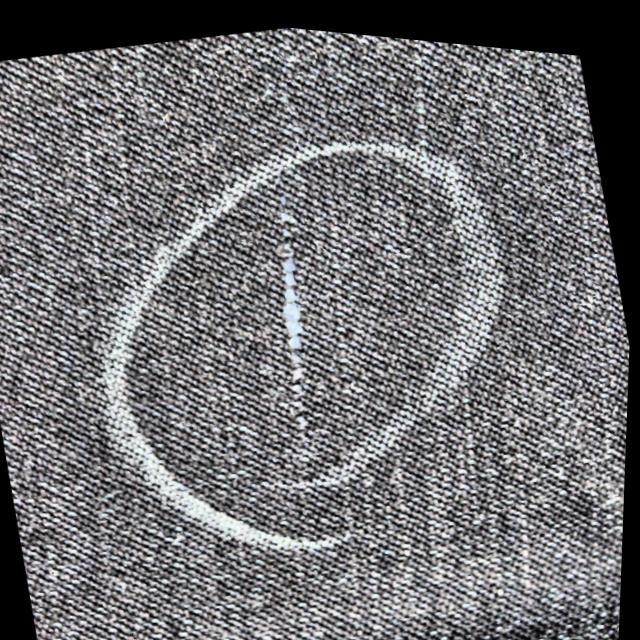Hole: (236, 227, 343, 367)
